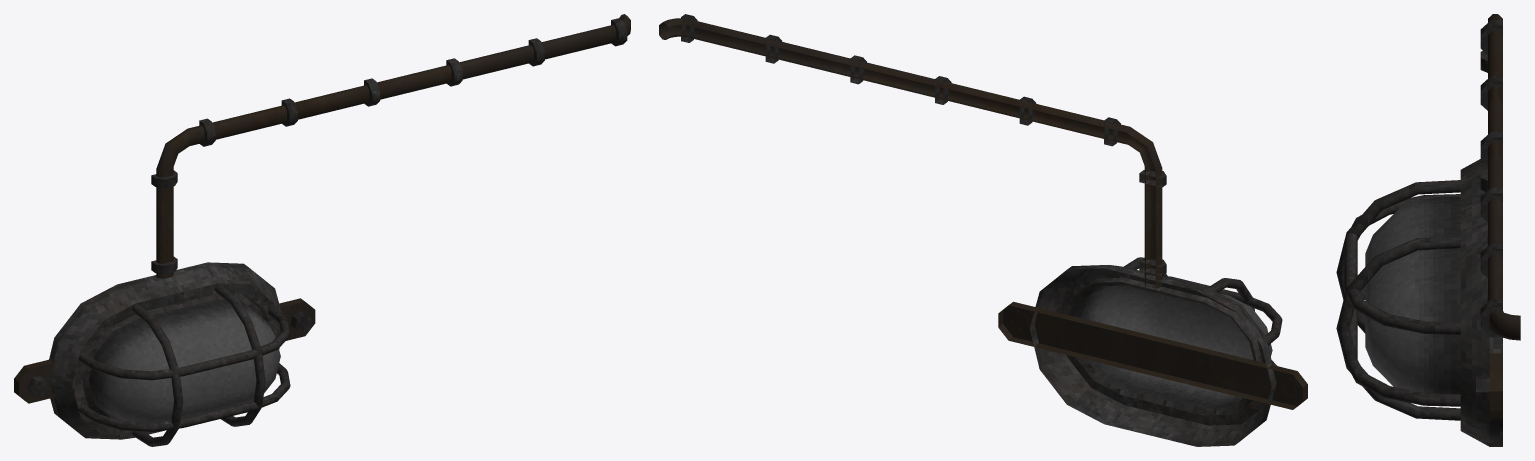
File: lamp_1_off.glb
The picture shows the model from 3 angles, left to right: view 1: azimuth 30°, elevation 25°; view 2: azimuth 150°, elevation 25°; view 3: azimuth 270°, elevation 25°; orthographic projection. The views are drawn at different scales.
Parts seen in each view (by area): view 1: lamp_1_off; view 2: lamp_1_off; view 3: lamp_1_off.
Boxes of the visible parts, x1,y1,x2,y2 form: lamp_1_off: (14, 14, 630, 446); lamp_1_off: (659, 14, 1307, 446); lamp_1_off: (1336, 14, 1520, 446).
Size of the model in its own units: 0.7532 by 0.343 by 0.1393.
4 materials, 4 textured.
